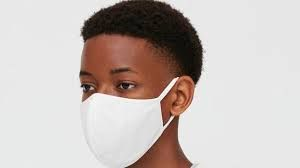with-mask: (74, 26, 198, 168)
